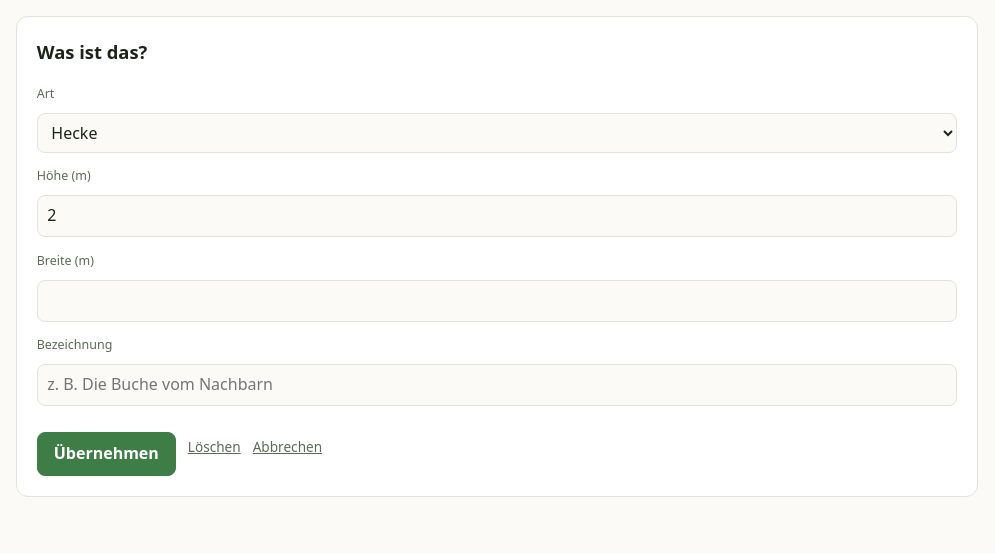
ElementForm — the crown base › does not ask a hedge drawn as a line that is turned into a tree
This screenshot has width=995, height=553.
Select "Baum" in the dropdown labelled "Art" at (497,133), box x1=37 y1=112 x2=957 y2=153
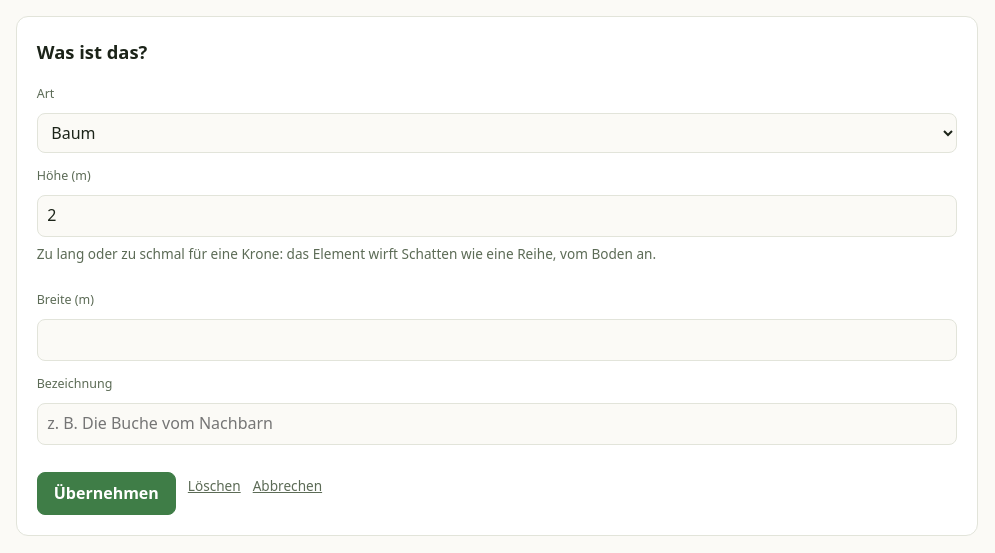
expect the text "Zu lang oder zu schmal für eine Krone" is shown: met, box x1=37 y1=244 x2=656 y2=263
